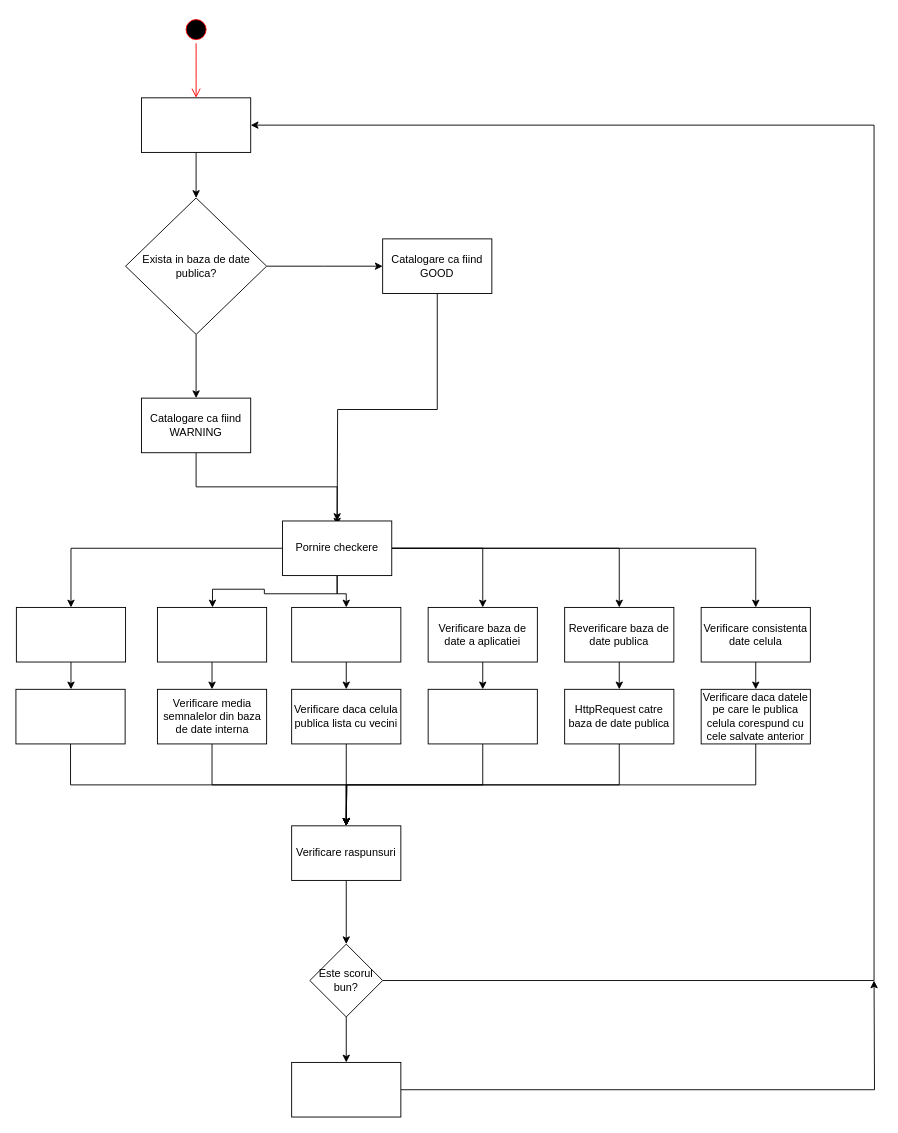
Image size: 898x1133. Some labels were removed from this diagram. Each missing label, with the centre of its shape:
Notificare utilizator: the point at 346,1089
Ping server google si intoarcere raspuns: the point at 70,716
Telefonul utilizatorului s-a conectat la o noua celula: the point at 196,124
Verificare conectivitate retea: the point at 70,634
Verificare daca celula exista deja in baza de date a aplicatiei: the point at 482,716
Verificare putere semnal: the point at 212,634
Verificare Vecini: the point at 346,634
